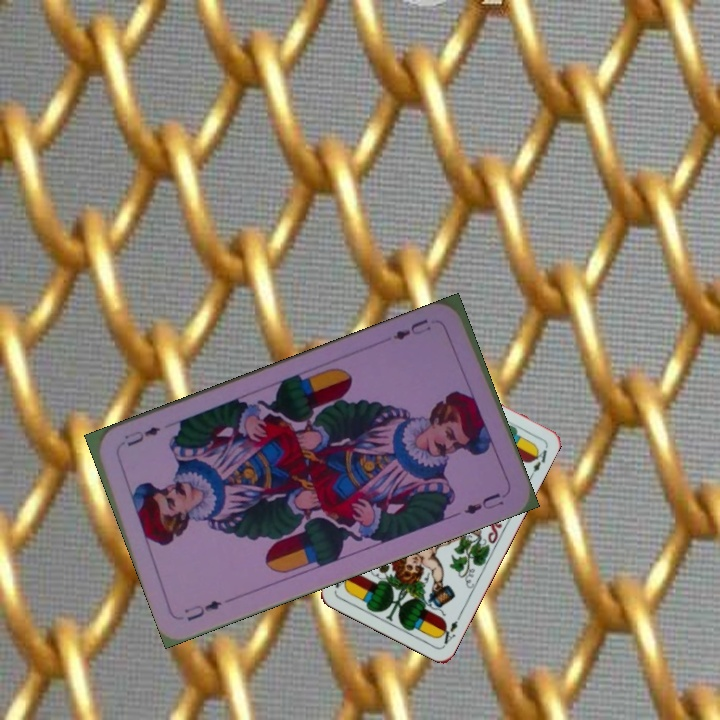EA: (435, 610, 464, 647)
EU: (389, 315, 434, 343), (180, 596, 225, 624)
